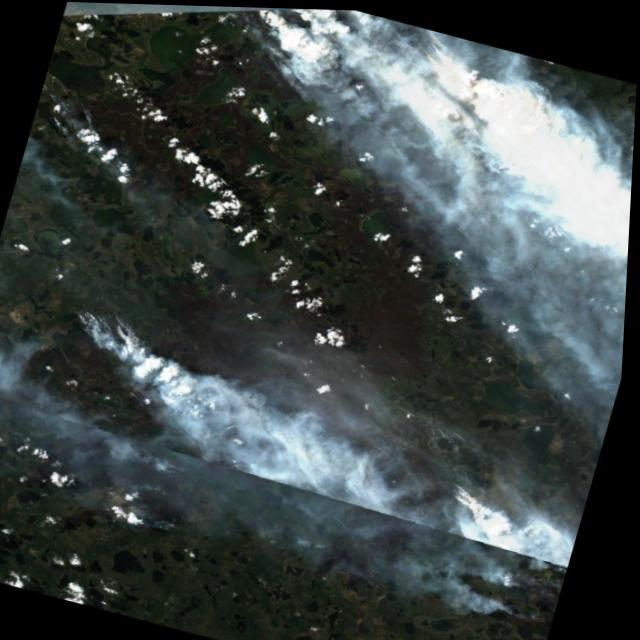fire: (484, 554, 559, 630), (67, 294, 151, 354), (31, 82, 103, 138), (442, 465, 496, 509)
